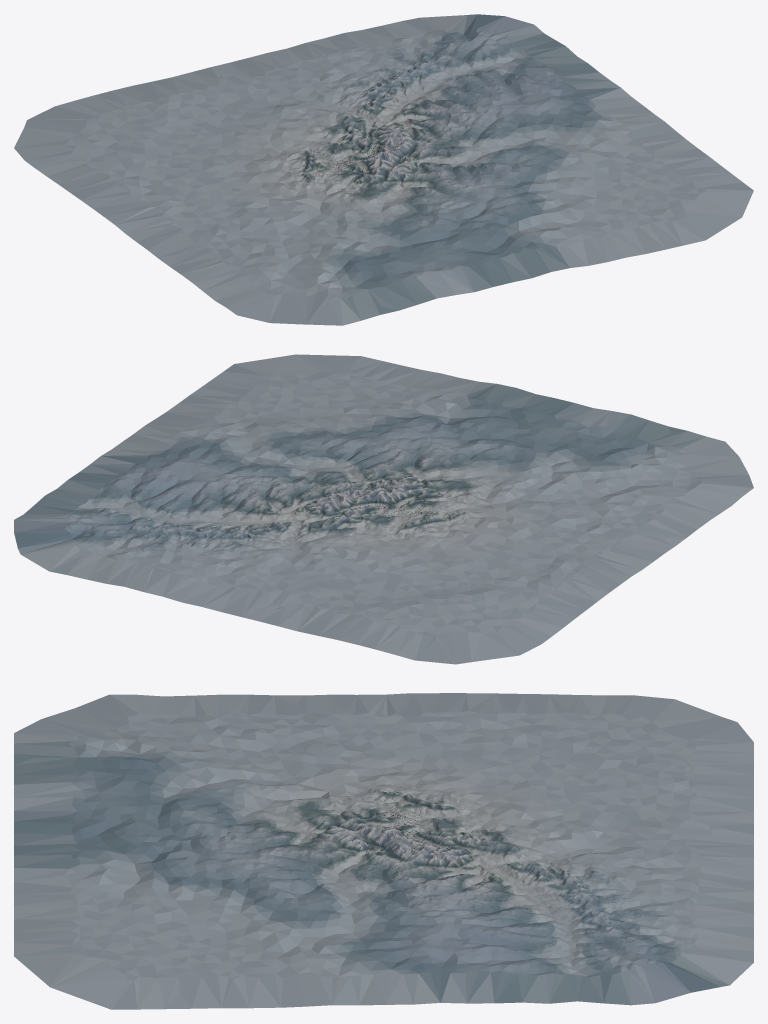
File: scene_full_77.glb
3 views of the same model, one above another, from view 1: azimuth 30°, elevation 25°; view 2: azimuth 150°, elevation 25°; view 3: azimuth 270°, elevation 25° (orthographic). The views are drawn at different scales.
Visible parts, largest first — view 1: map; view 2: map; view 3: map.
Part boxes in pixels (box(x1,y1,x2,y2)): map: box(14, 14, 753, 325); map: box(14, 354, 753, 664); map: box(14, 693, 753, 1009).
Size of the model in its own units: 630 by 23.91 by 630.
